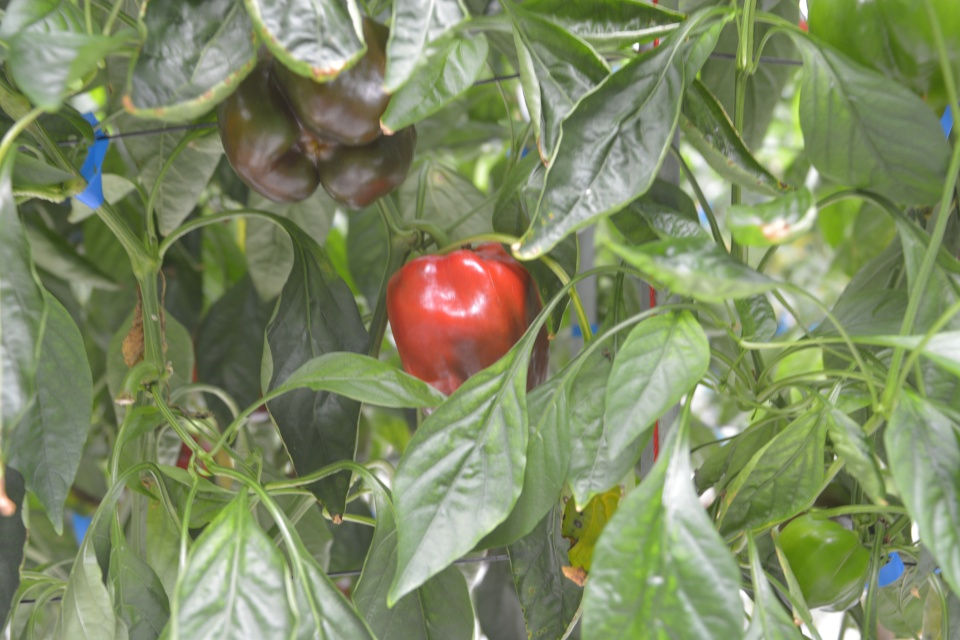fruit: (213, 15, 418, 212), (384, 248, 551, 416), (805, 1, 960, 111), (778, 510, 872, 611)
